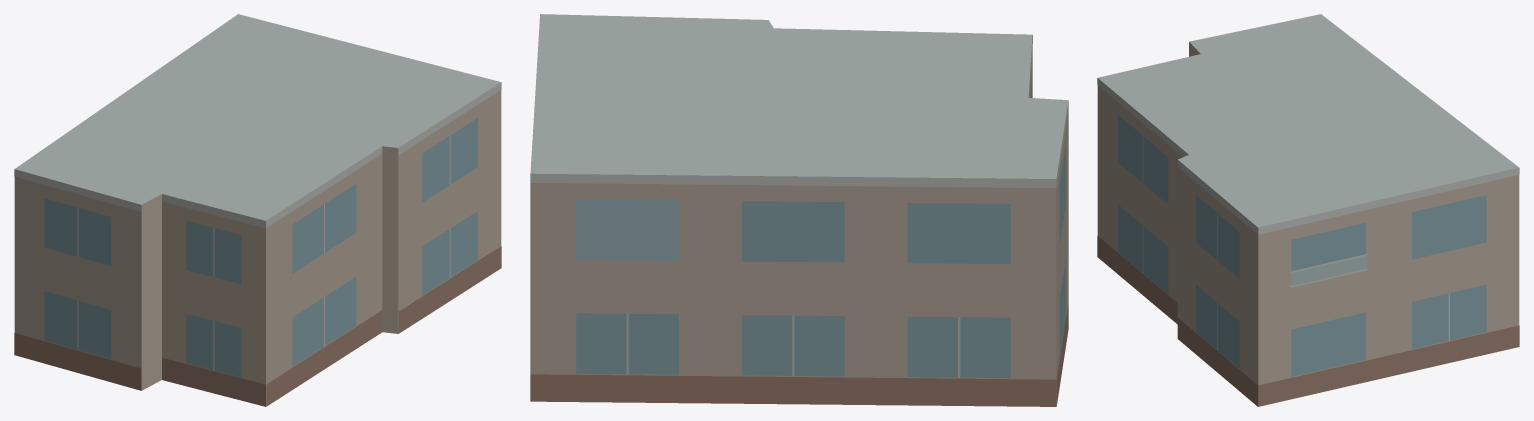
File: survey-upis-32931375.glb
3 views of the same model, side by side, from view 1: azimuth 30°, elevation 25°; view 2: azimuth 150°, elevation 25°; view 3: azimuth 270°, elevation 25° (orthographic). The views are drawn at different scales.
Visible parts, largest first — view 1: survey-upis-32931375.tmp; view 2: survey-upis-32931375.tmp; view 3: survey-upis-32931375.tmp.
Boxes of the visible parts, <box> form: survey-upis-32931375.tmp: <box>14,14,501,406</box>; survey-upis-32931375.tmp: <box>530,14,1068,406</box>; survey-upis-32931375.tmp: <box>1097,14,1519,406</box>.
Size of the model in its own units: 15.6 by 6.1 by 13.03.
